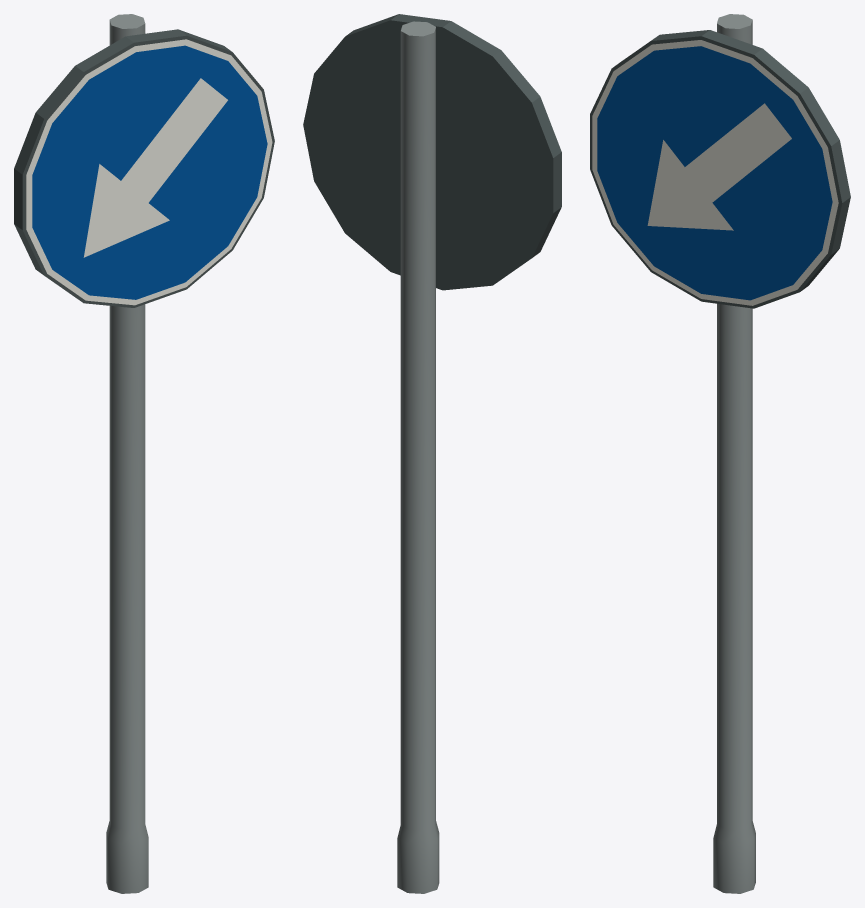
Rendered from sg-keep-left.glb.
The picture shows the model from 3 angles, left to right: view 1: azimuth 30°, elevation 25°; view 2: azimuth 150°, elevation 25°; view 3: azimuth 330°, elevation 25°; orthographic projection.
Visible parts, largest first — view 1: keep_left_face, post; view 2: keep_left_face, post; view 3: keep_left_face, post.
Part boxes in pixels (left/top/right/bottom): keep_left_face: left=14, top=29, right=274, bottom=307; post: left=106, top=14, right=148, bottom=893; keep_left_face: left=303, top=14, right=561, bottom=290; post: left=397, top=21, right=439, bottom=893; keep_left_face: left=590, top=30, right=850, bottom=308; post: left=713, top=14, right=755, bottom=893.
Size of the model in its own units: 0.5044 by 1.65 by 0.1131.
